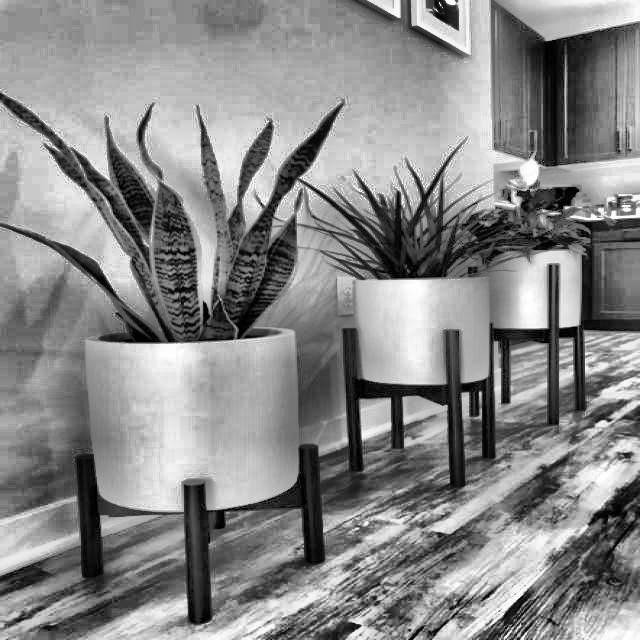plants: (0, 94, 348, 336)
